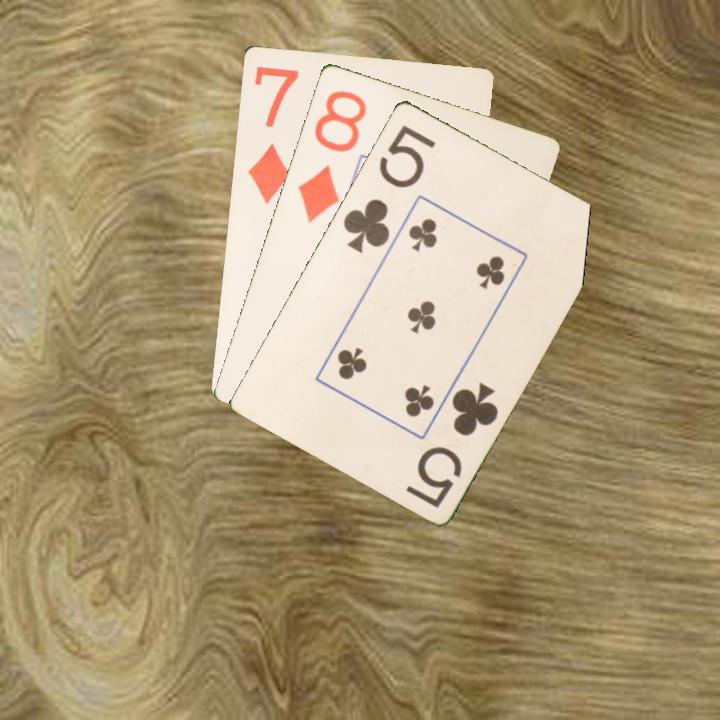5c: (339, 121, 438, 257), (402, 378, 502, 511)
7d: (243, 62, 301, 206)
8d: (294, 86, 369, 226)
